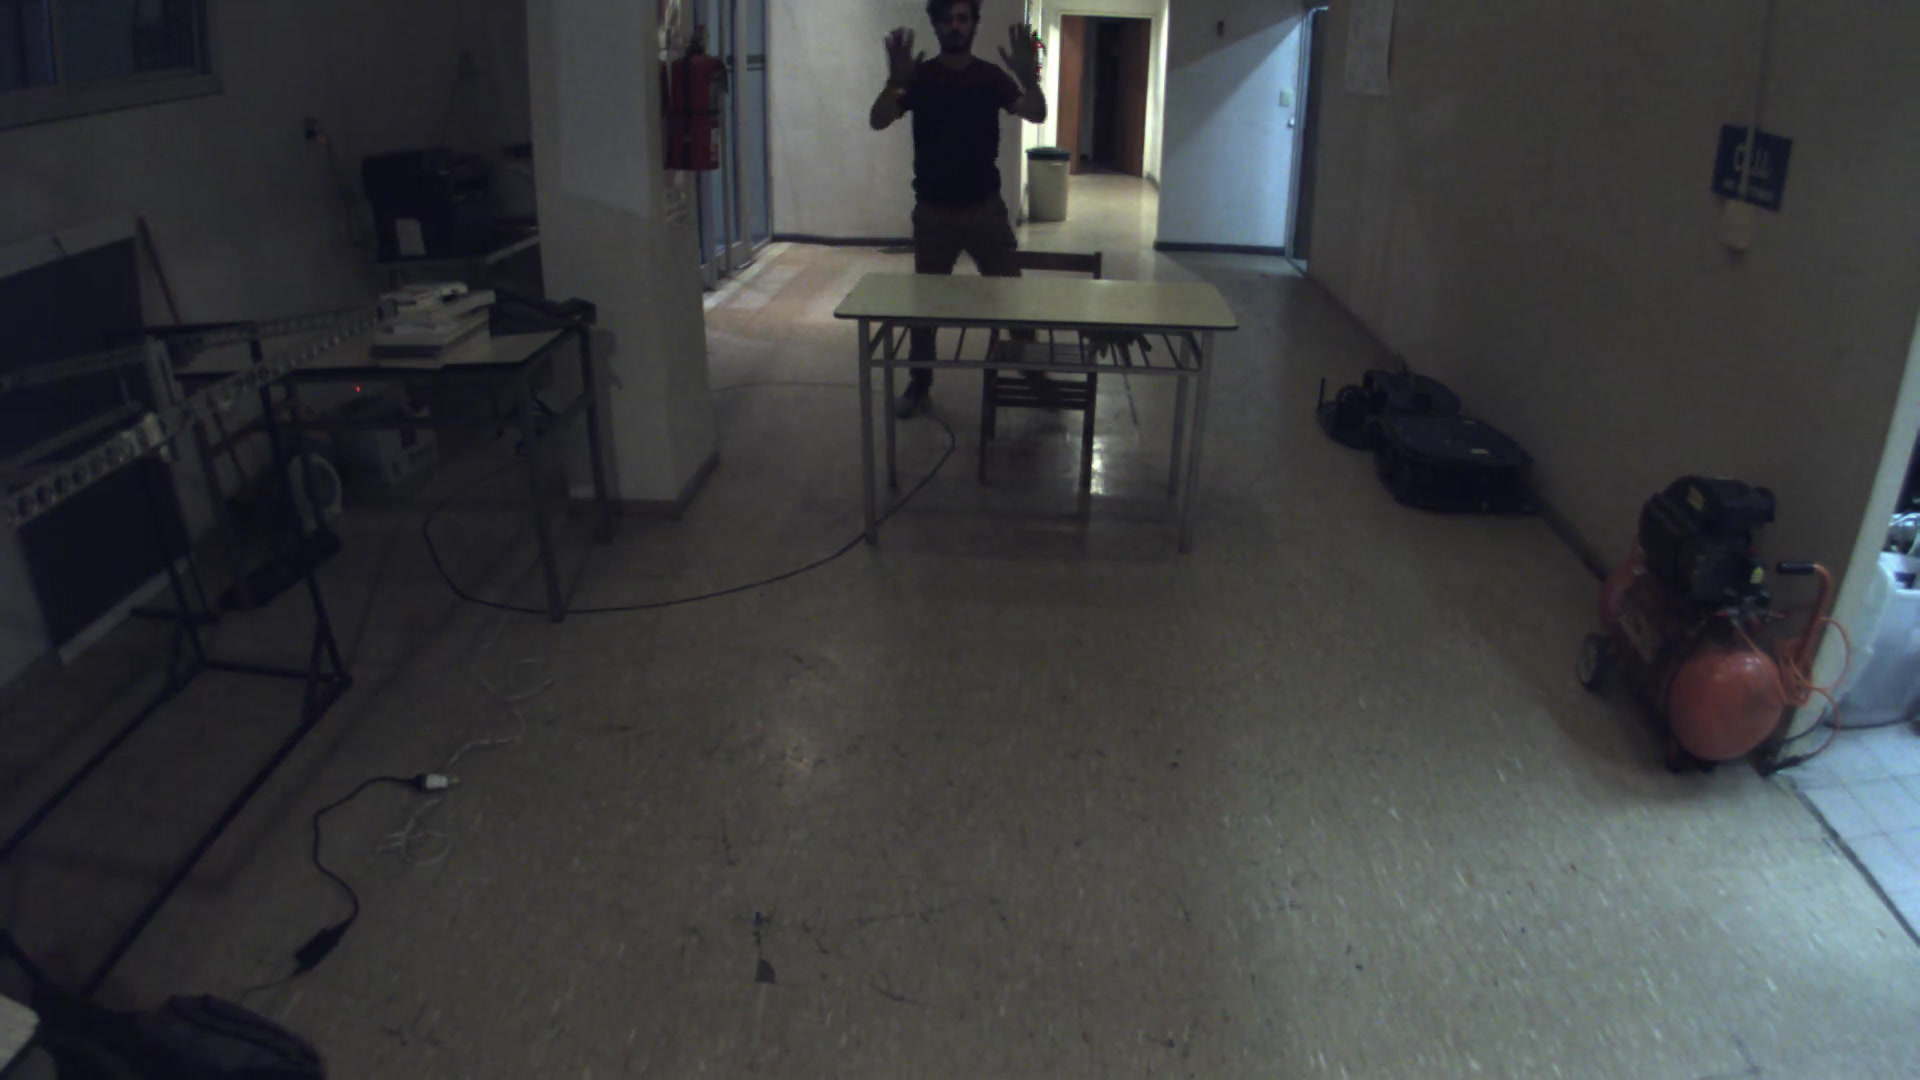hand: (880, 18, 935, 92), (992, 16, 1052, 80)
